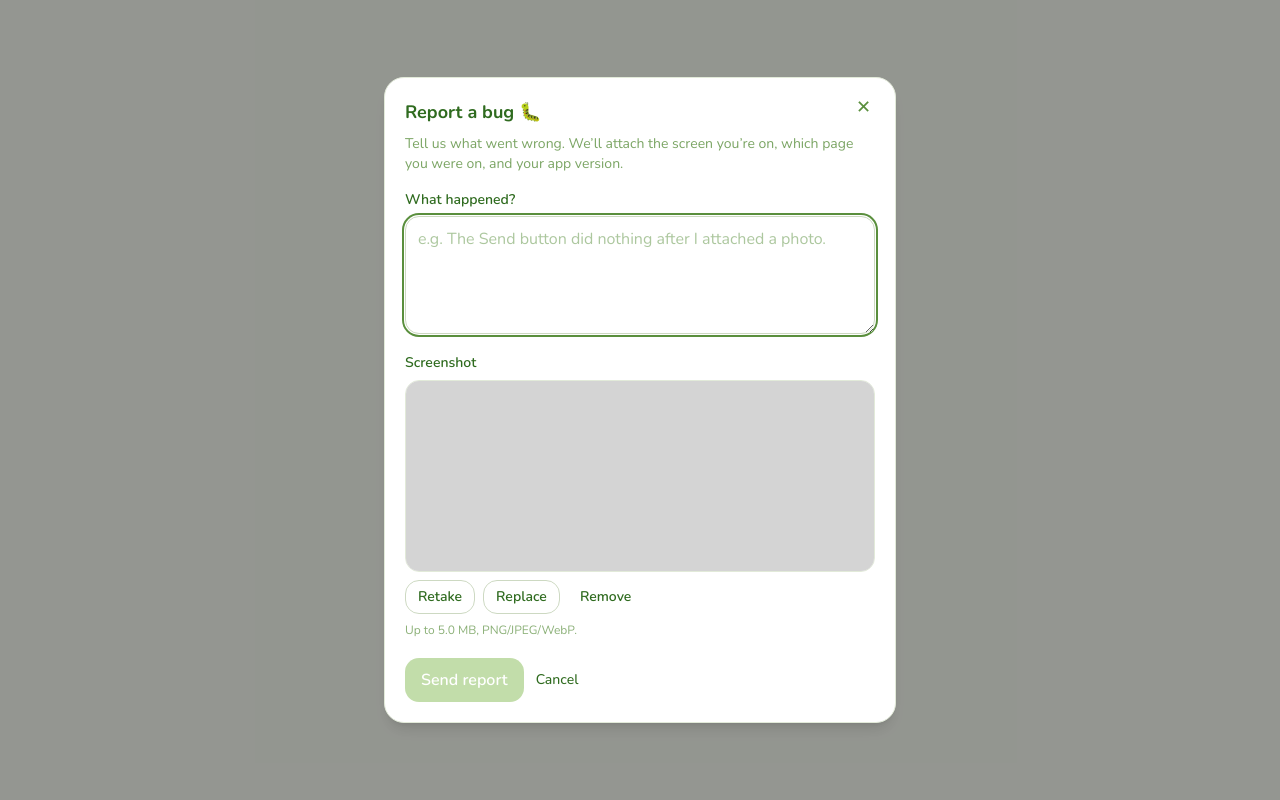
Test case: ReportBugModal — submit › maps a backend refusal to ITS OWN sentence rather than a generic failure
Step 1. Type "big picture" into the text box with test id "report-bug-body" → (640, 275), box [405, 216, 875, 334]
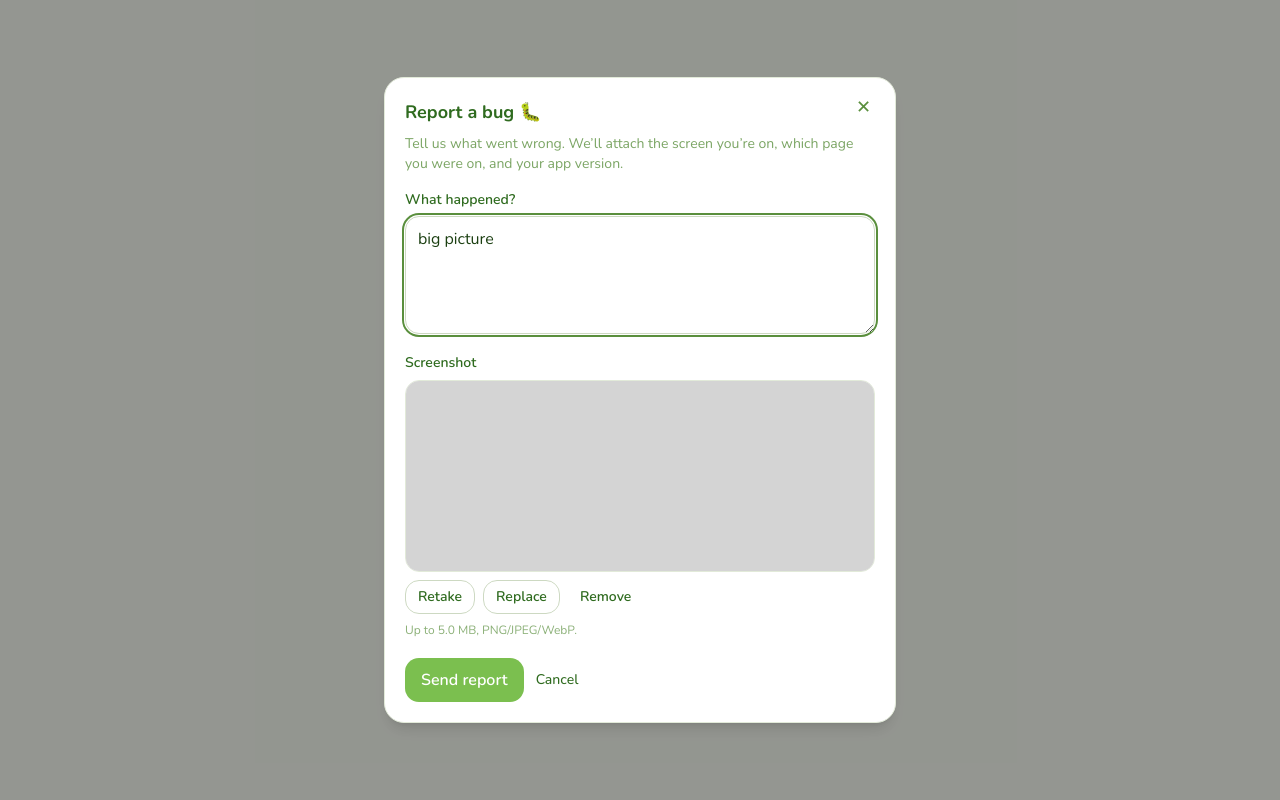
Step 2. Click the button with test id "report-bug-submit" → (464, 680), box [405, 658, 524, 702]
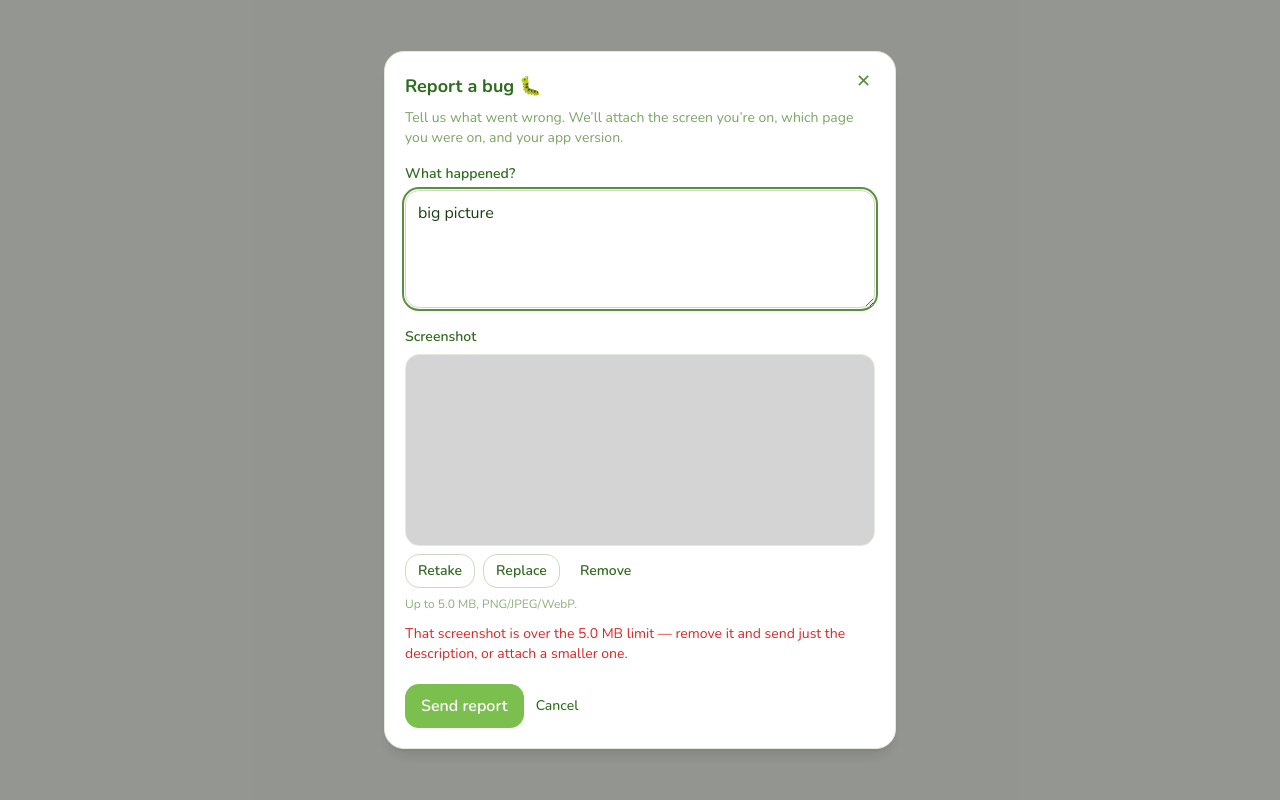
Expected: the button with test id "report-bug-submit" is enabled, [405, 684, 524, 728]
Expected: the message with test id "report-bug-error" shows "5.0 MB", [405, 624, 845, 663]
